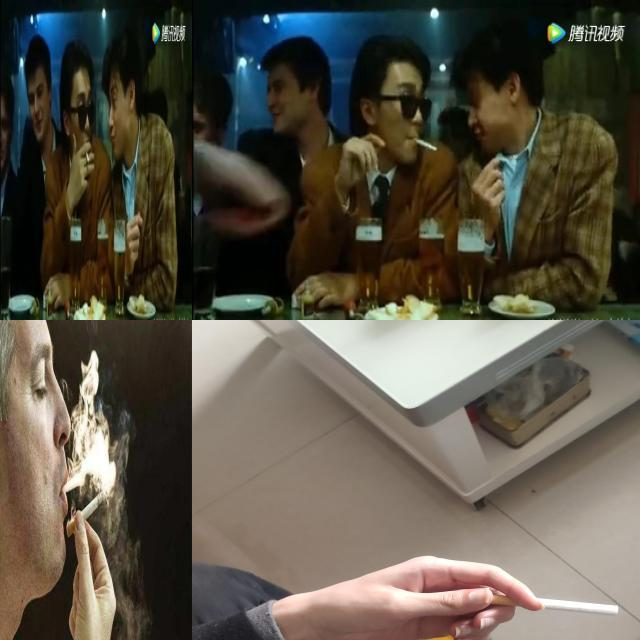smoking: (484, 595, 620, 615), (67, 493, 101, 538), (413, 136, 439, 153), (86, 152, 90, 164)
